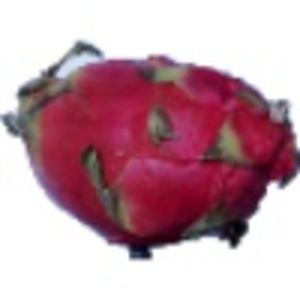pitaia: (1, 39, 300, 261)
